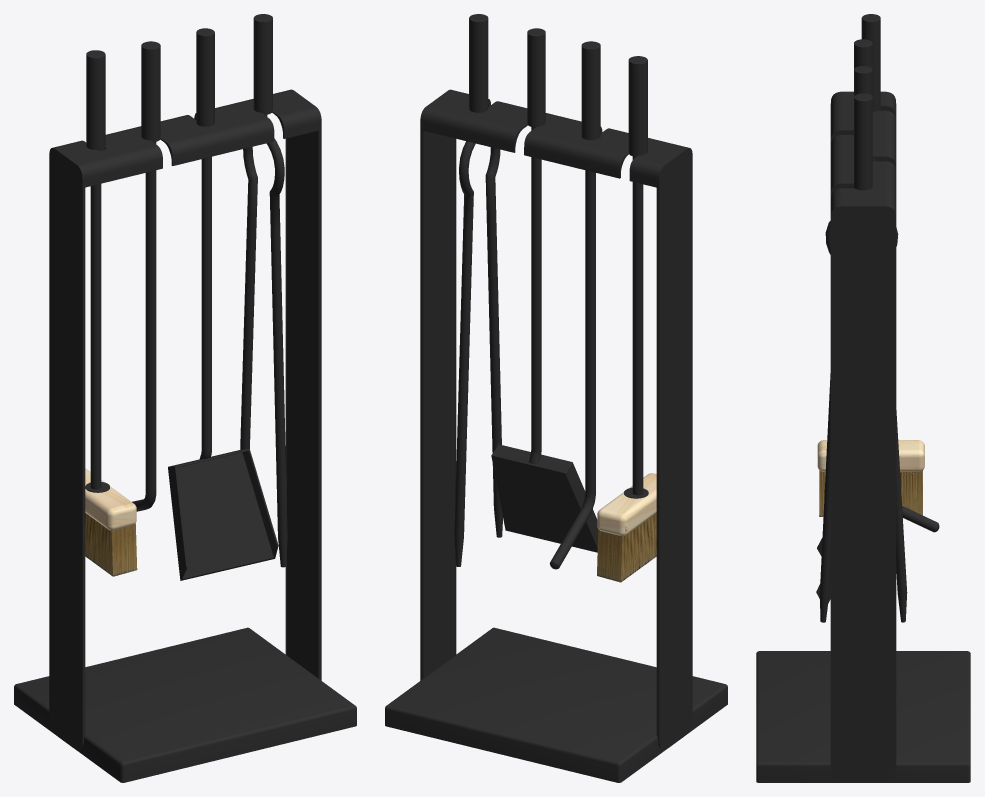
Rendered from kamin.glb.
3 renders of one model, left to right at view 1: azimuth 30°, elevation 25°; view 2: azimuth 150°, elevation 25°; view 3: azimuth 270°, elevation 25°, orthographic.
Parts seen in each view (by area): view 1: Boole_1, Cube_1 (×2), Sweep_1, Cylinder 4, Cylinder 8 (×2), Cylinder 1, Cylinder, Box 3 - baked, Cylinder 3, Cylinder 6, Box 1; view 2: Boole_1, Cube_1 (×2), Sweep_1, Cylinder 4, Cylinder 8 (×2), Cylinder 1, Cylinder, Box 3 - baked, Box 1, Cylinder 3, Cylinder 6; view 3: Boole_1, Cube_1, Sweep_1, Cylinder 8 (×2), Cylinder 3, Box 3 - baked, Box 1, Cylinder 6, Cylinder 4.
Part boxes in pixels (left/top/right/bottom): Boole_1: left=49, top=89, right=321, bottom=749; Cube_1 (×2): left=14, top=449, right=356, bottom=782; Sweep_1: left=240, top=138, right=287, bottom=567; Cylinder 4: left=132, top=142, right=156, bottom=511; Cylinder 8 (×2): left=141, top=14, right=272, bottom=142; Cylinder 1: left=90, top=150, right=101, bottom=489; Cylinder: left=199, top=156, right=211, bottom=459; Box 3 - baked: left=85, top=513, right=137, bottom=576; Cylinder 3: left=86, top=50, right=105, bottom=150; Cylinder 6: left=196, top=28, right=214, bottom=126; Box 1: left=85, top=468, right=136, bottom=530; Boole_1: left=420, top=89, right=692, bottom=749; Cube_1 (×2): left=385, top=444, right=727, bottom=782; Sweep_1: left=454, top=141, right=502, bottom=566; Cylinder 4: left=549, top=170, right=595, bottom=569; Cylinder 8 (×2): left=469, top=14, right=600, bottom=140; Cylinder 1: left=632, top=156, right=643, bottom=495; Cylinder: left=529, top=127, right=541, bottom=464; Box 3 - baked: left=597, top=513, right=656, bottom=582; Box 1: left=597, top=473, right=656, bottom=536; Cylinder 3: left=628, top=56, right=647, bottom=156; Cylinder 6: left=527, top=28, right=545, bottom=127; Boole_1: left=830, top=91, right=896, bottom=782; Cube_1: left=756, top=651, right=970, bottom=782; Sweep_1: left=819, top=221, right=907, bottom=622; Cylinder 8 (×2): left=854, top=39, right=872, bottom=190; Cylinder 3: left=861, top=14, right=880, bottom=111; Box 3 - baked: left=819, top=470, right=922, bottom=516; Box 1: left=817, top=440, right=924, bottom=471; Cylinder 6: left=854, top=66, right=872, bottom=95; Cylinder 4: left=902, top=506, right=939, bottom=532.
Size of the model in its own units: 0.0258 by 0.07 by 0.0204.
Materials: 17 (3 with a texture image).
